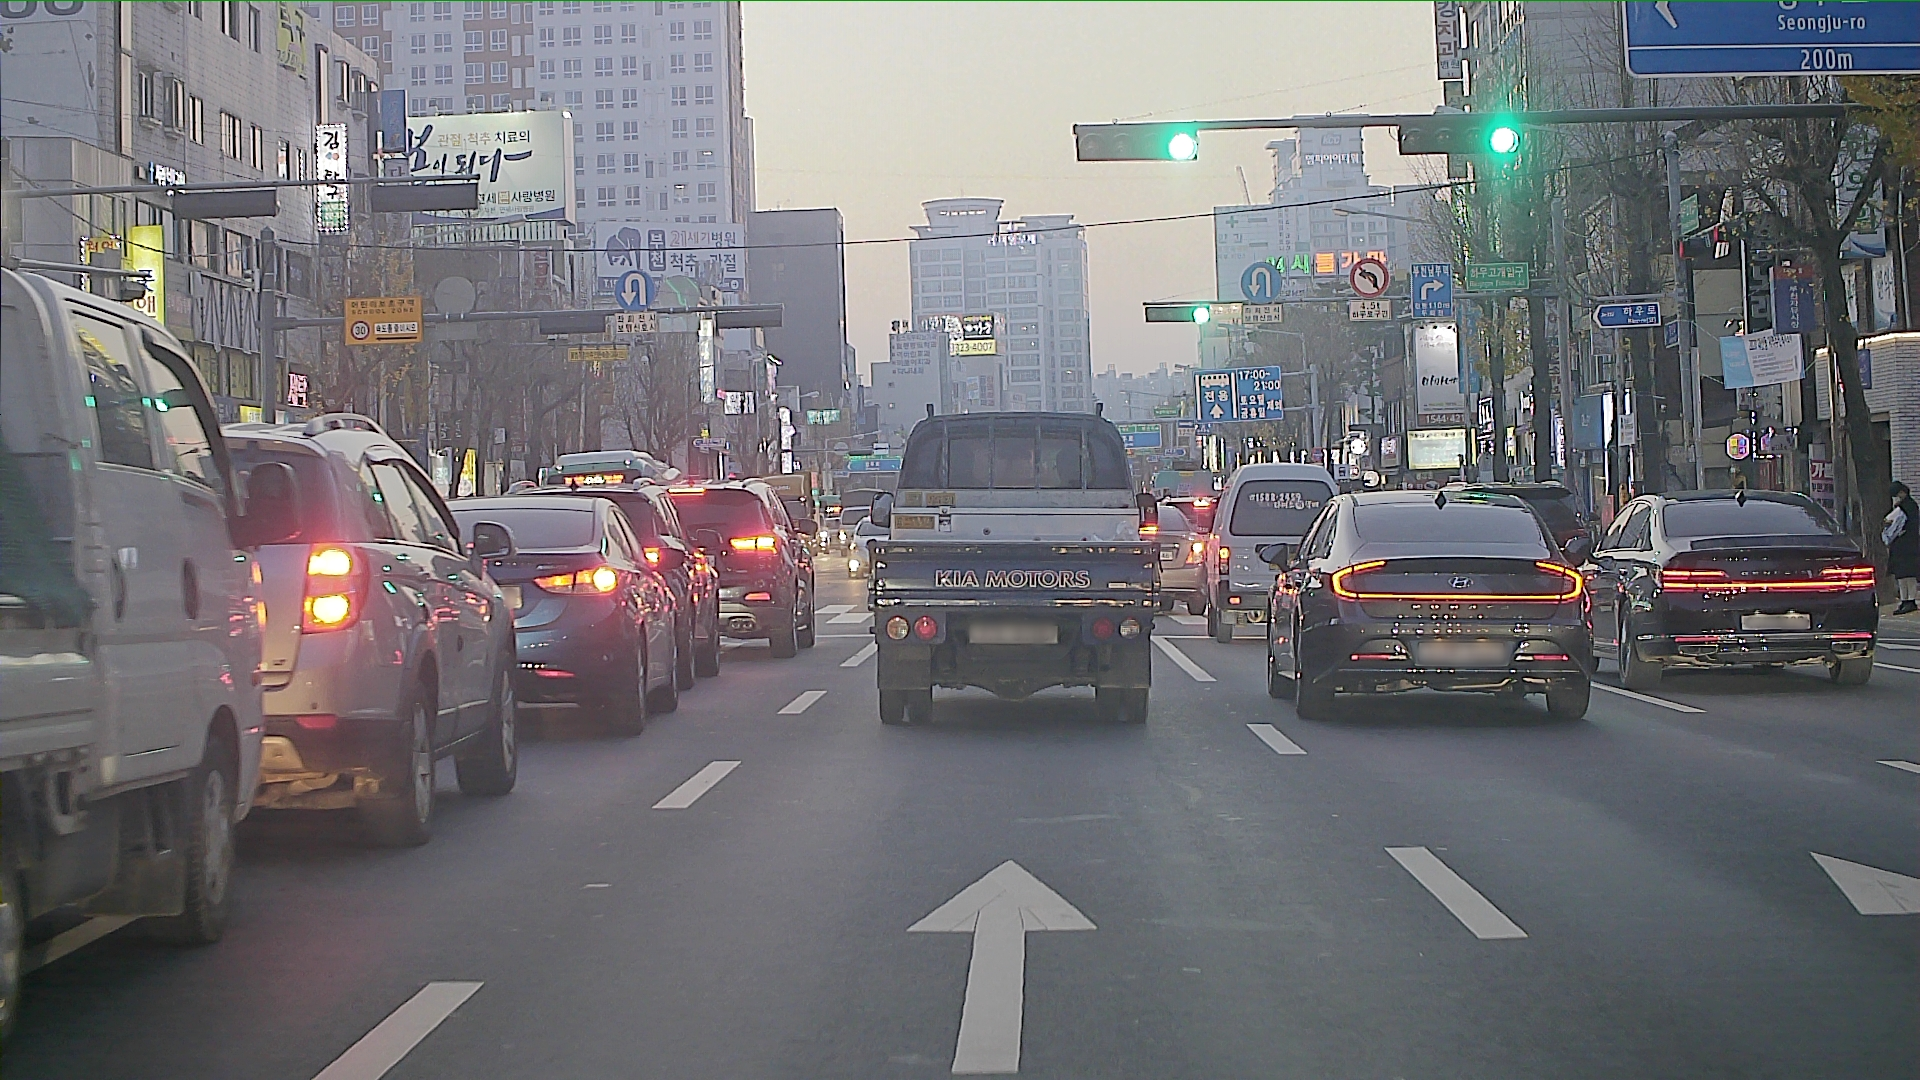trafficLight: (1073, 117, 1199, 166), (1400, 117, 1522, 154), (1145, 302, 1211, 327)
trafficSignCircle: (1240, 262, 1284, 309), (616, 268, 655, 315), (1349, 257, 1387, 295)
trafficSignRTG: (342, 293, 427, 349)
